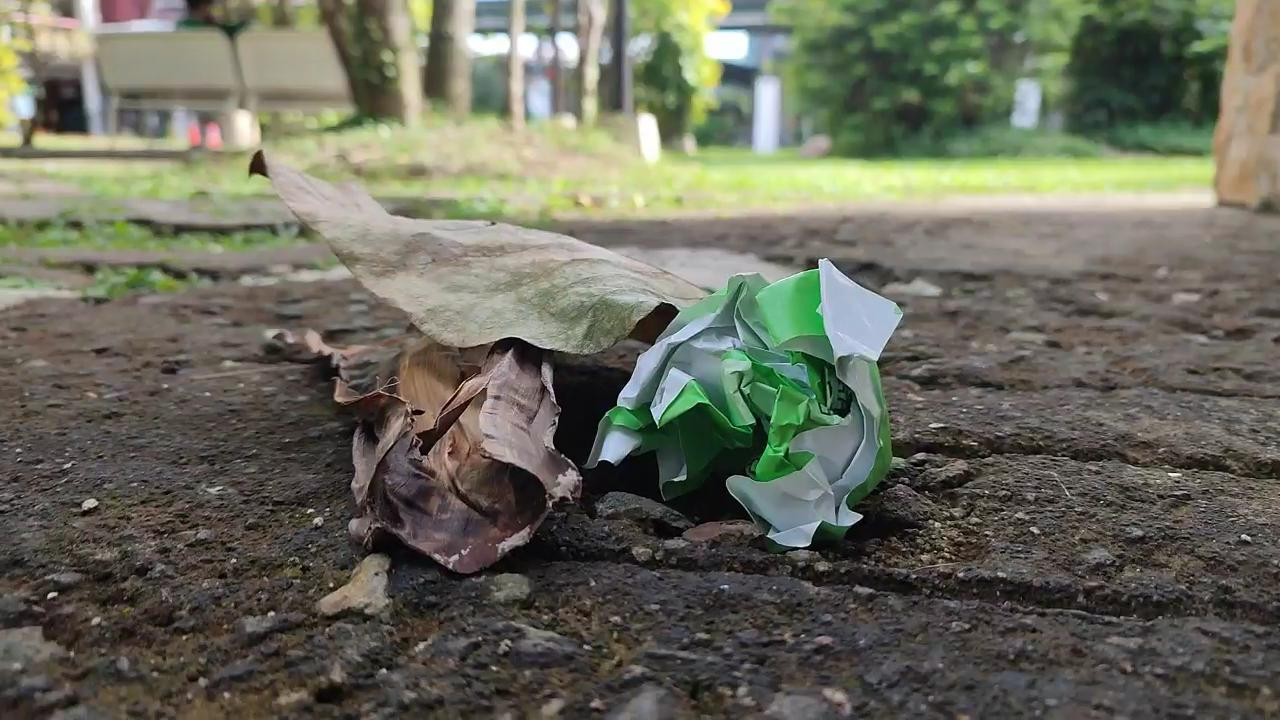Paper: (569, 251, 907, 558)
